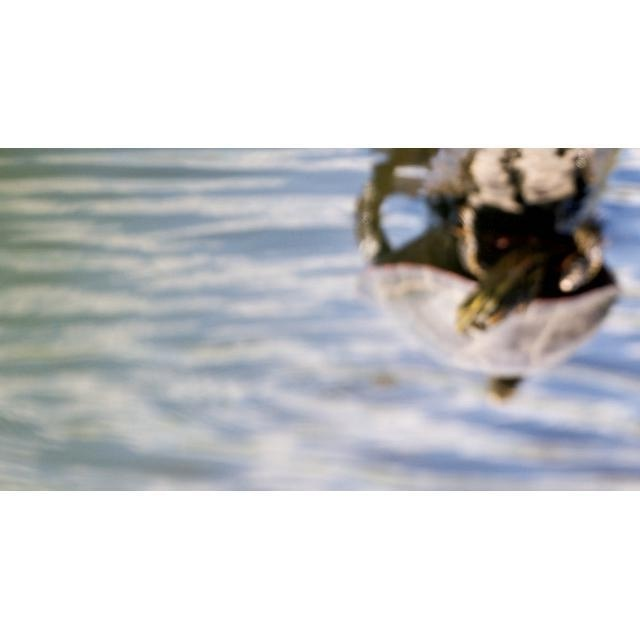turtle: (356, 178, 617, 404)
